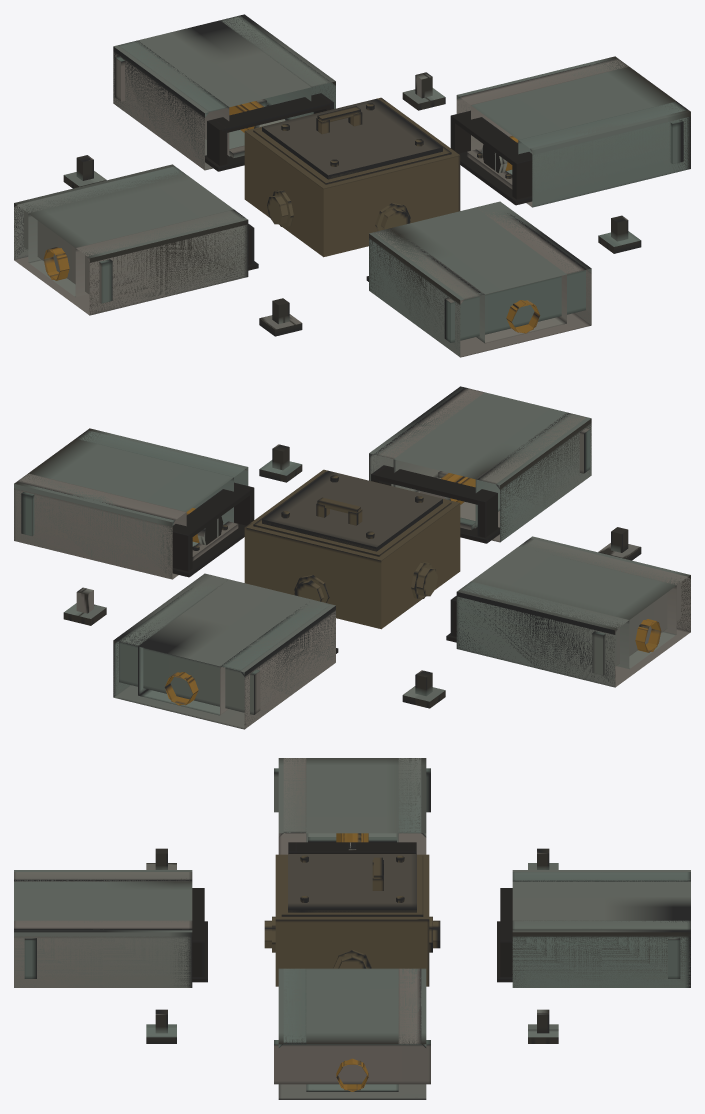
Rendered from place_works_conduit_power_junction.glb.
3 views of the same model, one above another, from view 1: azimuth 30°, elevation 25°; view 2: azimuth 150°, elevation 25°; view 3: azimuth 270°, elevation 25° (orthographic). The views are drawn at different scales.
Parts seen in each view (by area): view 1: LOD0_Merged_Material_Atlas, LOD2_Merged_Material_Atlas, LOD0_service_lid, LOD1_Merged_Material_Atlas; view 2: LOD0_Merged_Material_Atlas, LOD2_Merged_Material_Atlas, LOD0_service_lid, LOD1_Merged_Material_Atlas; view 3: LOD0_Merged_Material_Atlas, LOD2_Merged_Material_Atlas, LOD0_service_lid.
Part boxes in pixels (<box>): LOD0_Merged_Material_Atlas: <box>14,15,690,357</box>; LOD2_Merged_Material_Atlas: <box>14,14,690,355</box>; LOD0_service_lid: <box>262,99,442,178</box>; LOD1_Merged_Material_Atlas: <box>43,101,540,333</box>; LOD0_Merged_Material_Atlas: <box>14,387,690,729</box>; LOD2_Merged_Material_Atlas: <box>14,386,690,728</box>; LOD0_service_lid: <box>262,471,442,550</box>; LOD1_Merged_Material_Atlas: <box>164,473,661,705</box>; LOD0_Merged_Material_Atlas: <box>14,758,690,1099</box>; LOD2_Merged_Material_Atlas: <box>14,758,690,1044</box>; LOD0_service_lid: <box>288,854,416,911</box>.
Size of the model in its own units: 2.2 by 0.323 by 2.2.
1 material, 1 textured.
